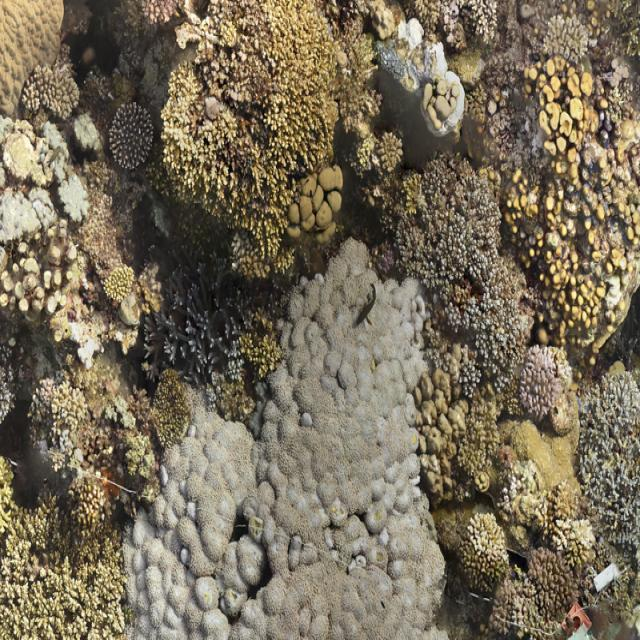Healthy Coral: (284, 281, 427, 640), (146, 428, 307, 640)
